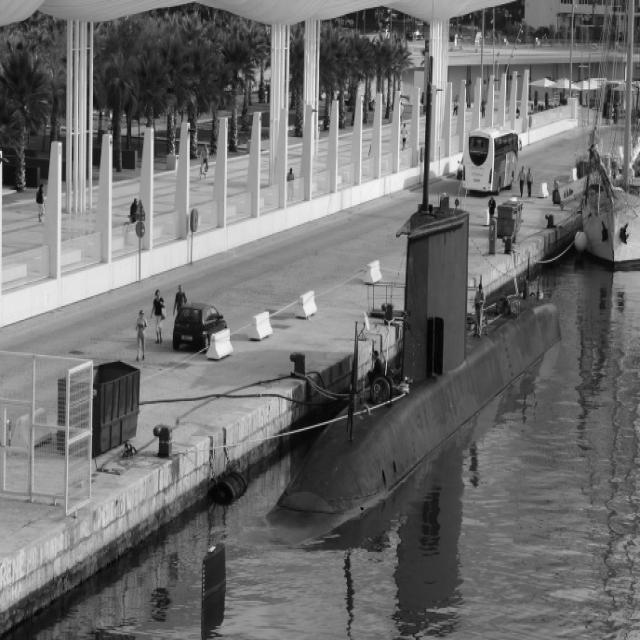submarine: (265, 197, 564, 534)
